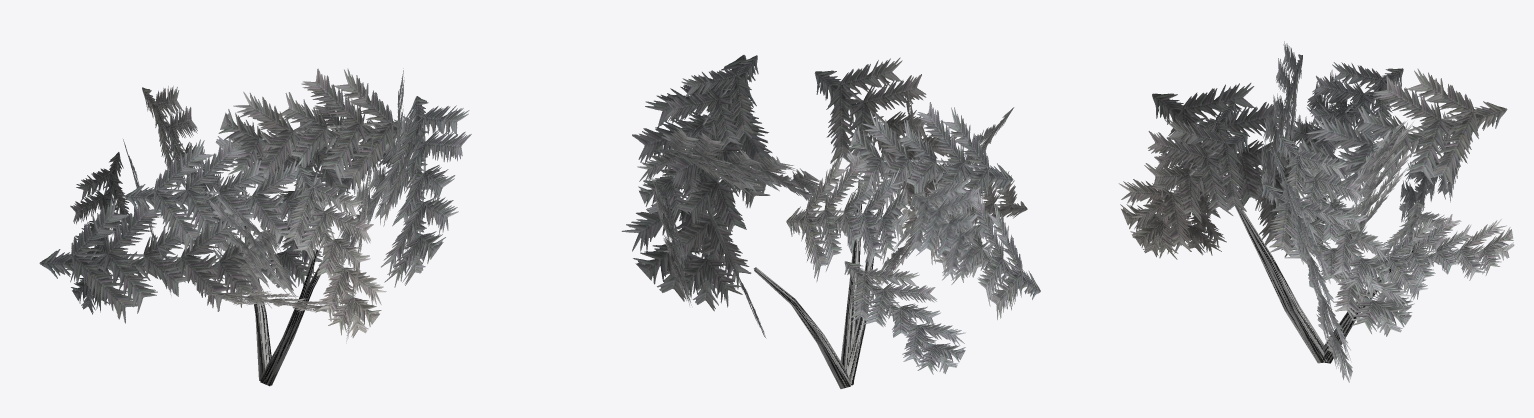
The model's file is shrub_needle_l1.gltf.
3 views of the same model, side by side, from view 1: azimuth 30°, elevation 25°; view 2: azimuth 150°, elevation 25°; view 3: azimuth 270°, elevation 25° (orthographic). The views are drawn at different scales.
Parts seen in each view (by area): view 1: shrub_needle_l1; view 2: shrub_needle_l1; view 3: shrub_needle_l1.
Part boxes in pixels (bbox=[...]): shrub_needle_l1: bbox=[39, 68, 471, 386]; shrub_needle_l1: bbox=[621, 55, 1040, 388]; shrub_needle_l1: bbox=[1118, 41, 1514, 382].
Size of the model in its own units: 2.22 by 1.36 by 1.69.
2 materials, 2 textured.
